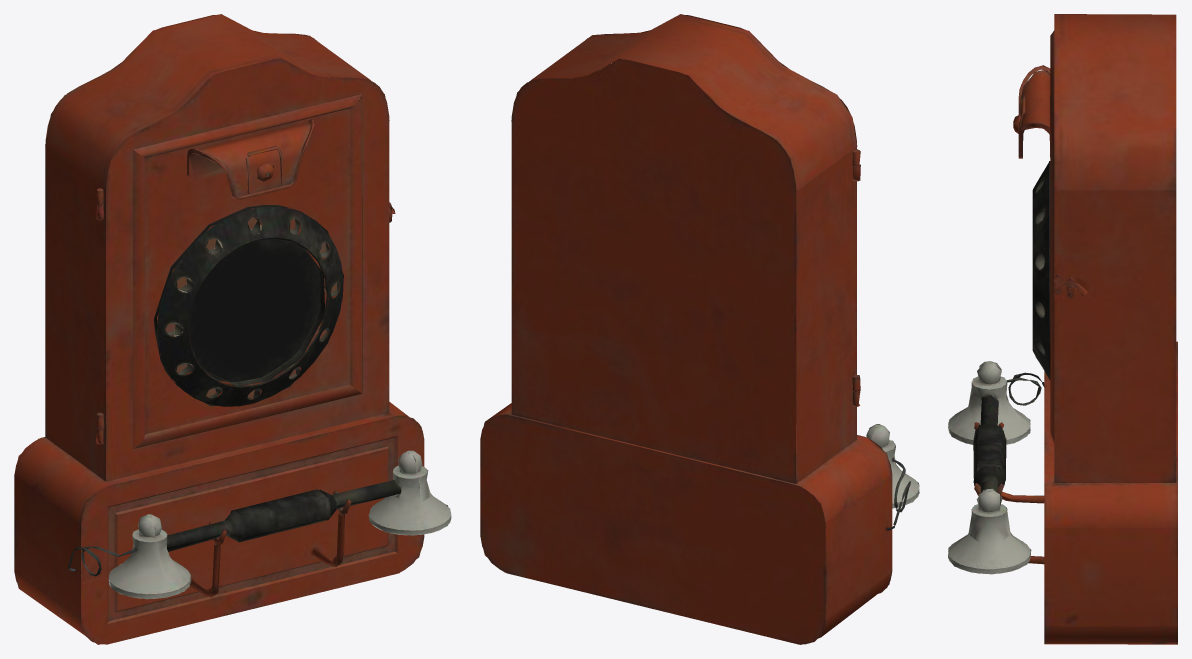
File: vintage_telephone_wall_clock.glb
3 views of the same model, side by side, from view 1: azimuth 30°, elevation 25°; view 2: azimuth 150°, elevation 25°; view 3: azimuth 270°, elevation 25° (orthographic).
Visible parts, largest first — view 1: vintage_telephone_wall_clock; view 2: vintage_telephone_wall_clock; view 3: vintage_telephone_wall_clock.
Boxes of the visible parts, bbox=[...] form: vintage_telephone_wall_clock: bbox=[14, 14, 451, 644]; vintage_telephone_wall_clock: bbox=[480, 14, 919, 644]; vintage_telephone_wall_clock: bbox=[948, 14, 1177, 644].
Bounding box in the file's own units: 0.3429 × 0.5009 × 0.1926.
2 materials, 2 textured.
